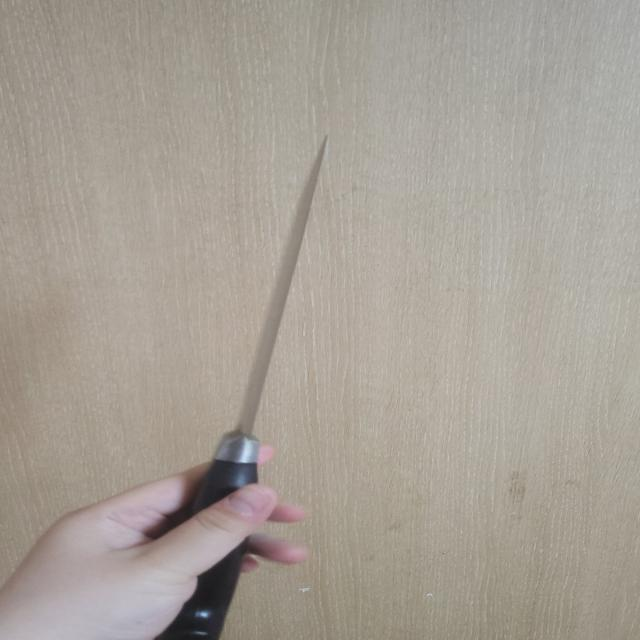knife: (149, 146, 325, 638)
